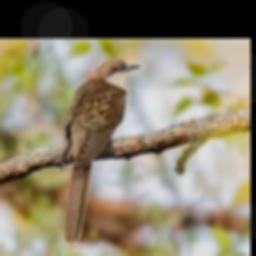Cuckoo: (62, 58, 141, 244)
